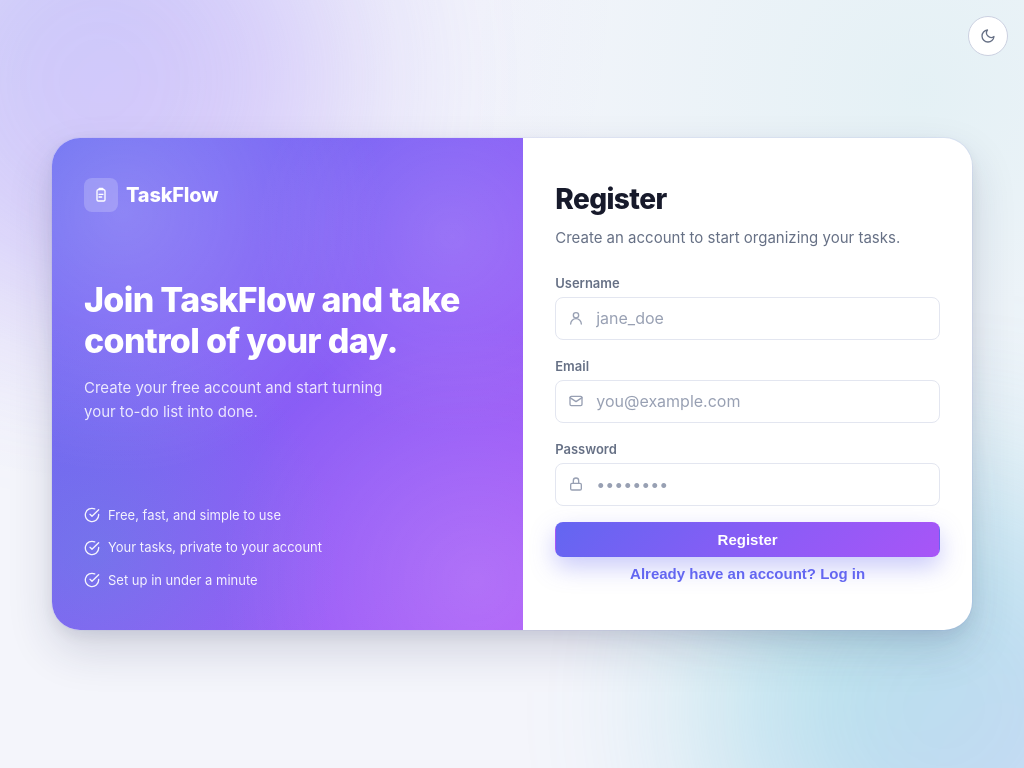
Test: RegisterPage › marks an invalid username as aria-invalid and clears the error once corrected
This screenshot has width=1024, height=768.
Type "a@b.com" into the field labelled "Email".
click(762, 401); type("a@b.com")  # box [596,381,927,422]
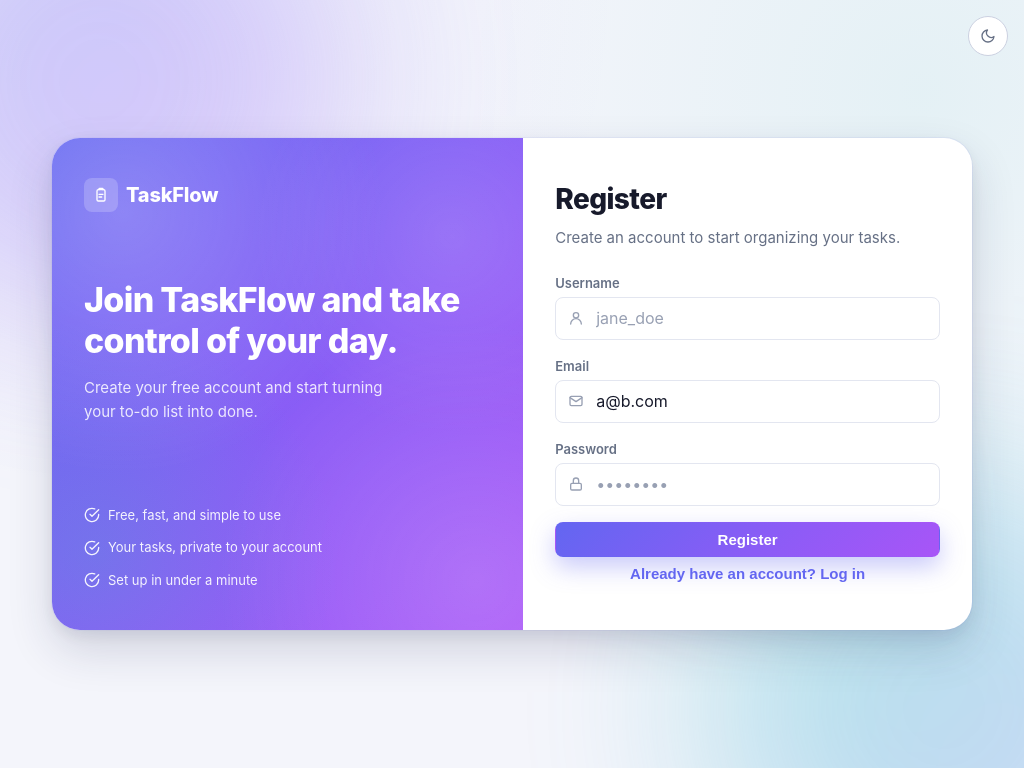
Type "secret1" into the password field labelled "Password".
click(762, 484); type("secret1")  # box [596,464,927,505]
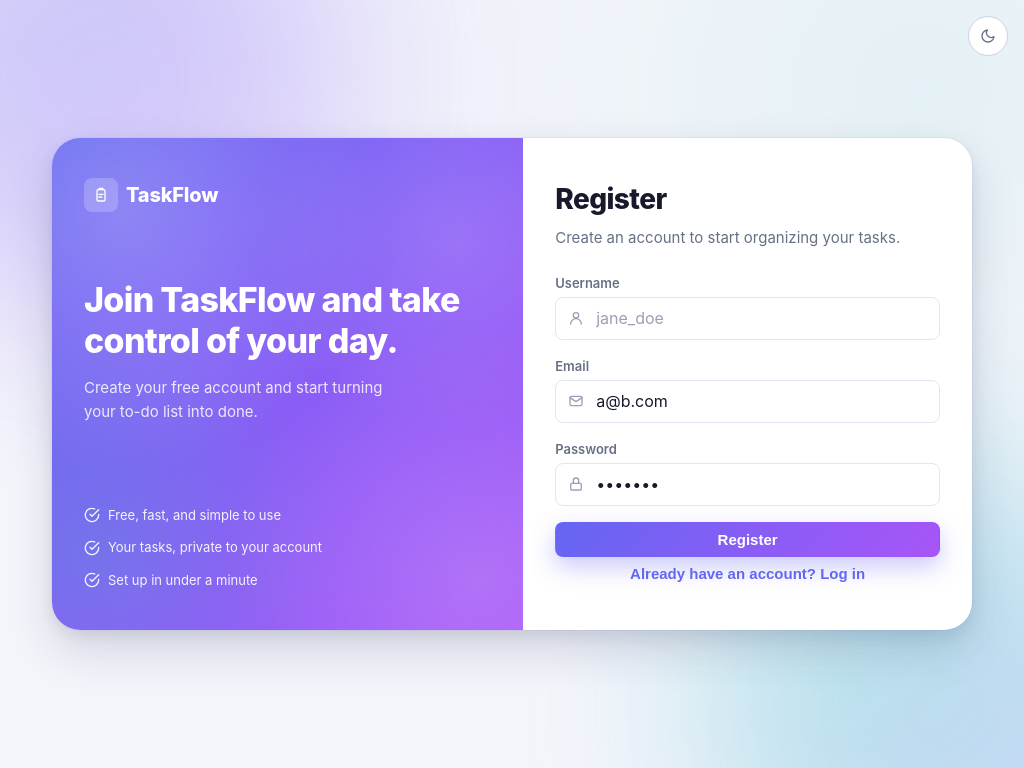
Click the button "Register".
click(748, 539)  # box [555,522,940,557]
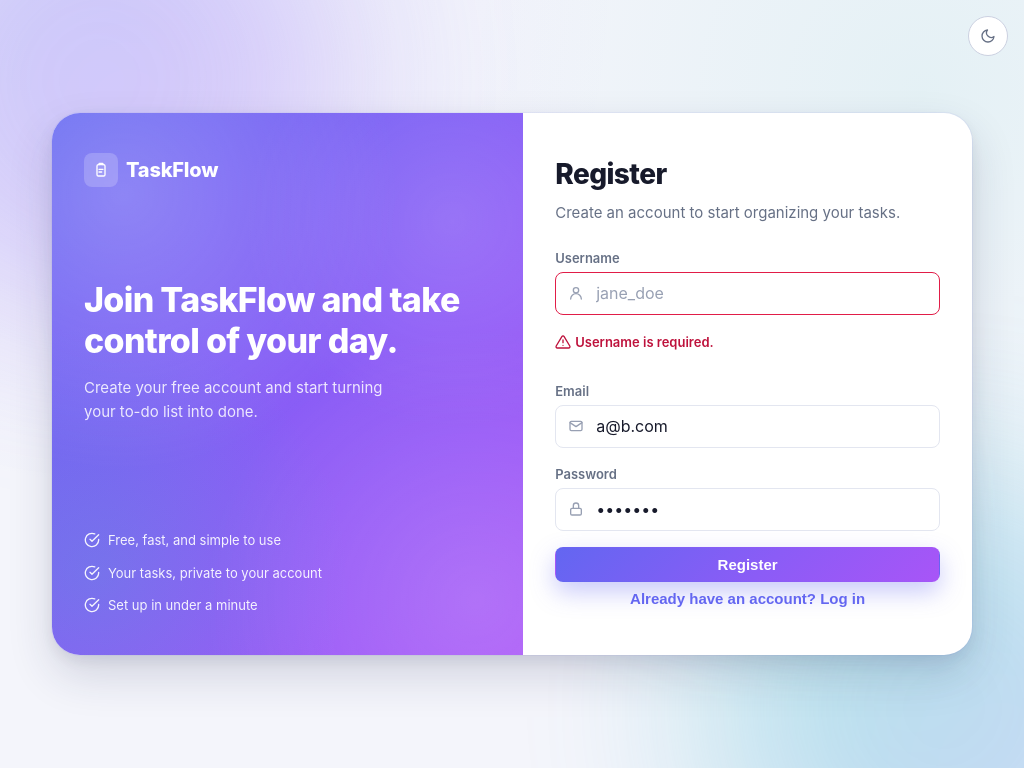
Check: the text "Username is required." is shown, box [555,334,714,350]
Type "alice" into the field labelled "Username".
click(762, 293); type("alice")  # box [596,273,927,314]
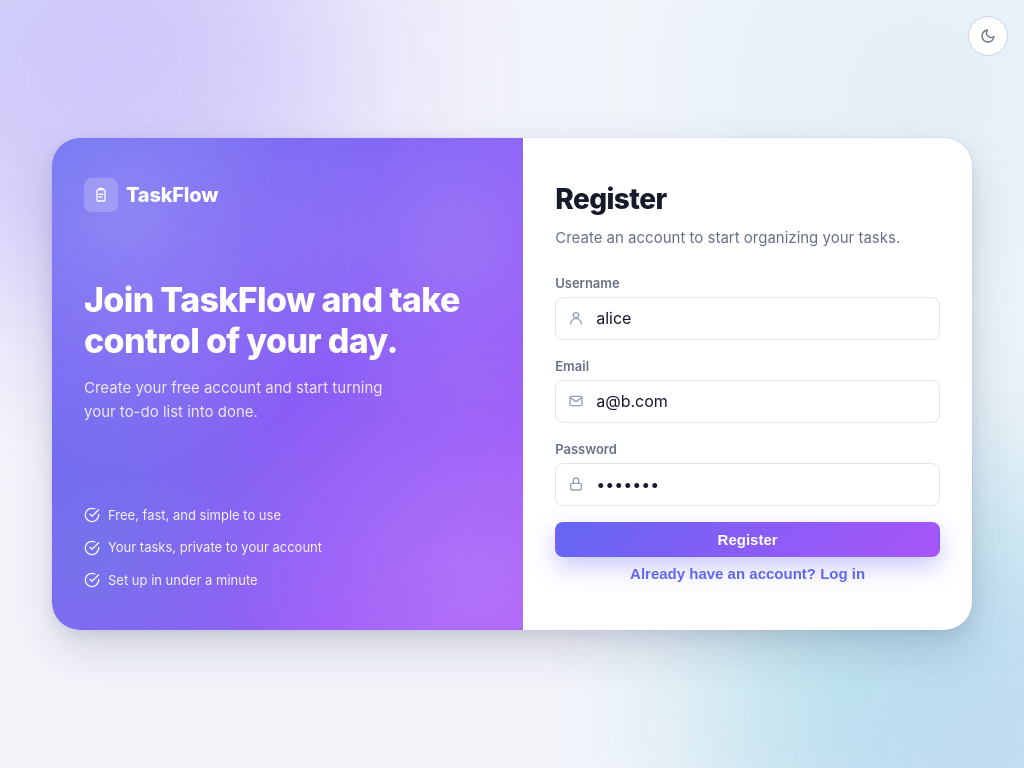
Check: the text "Username is required." is gone
